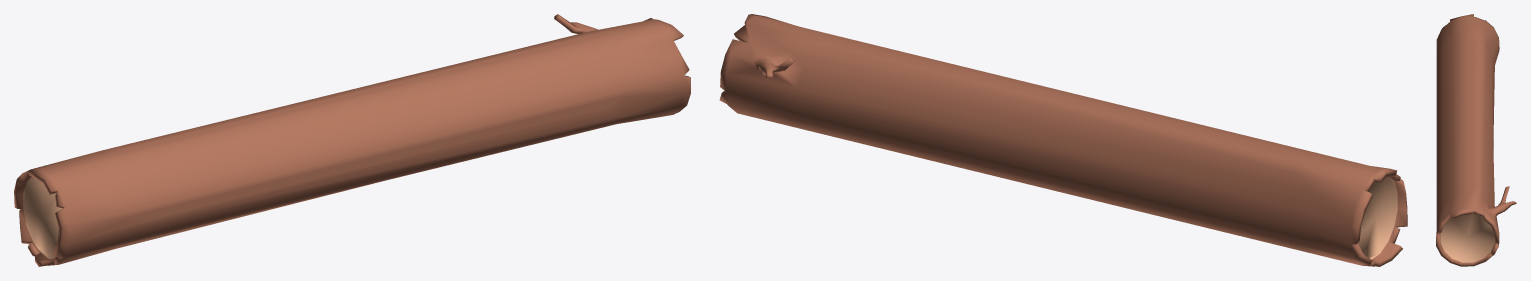
Rendered from Log.fbx.
3 renders of one model, left to right at view 1: azimuth 30°, elevation 25°; view 2: azimuth 150°, elevation 25°; view 3: azimuth 270°, elevation 25°, orthographic. The views are drawn at different scales.
Visible parts, largest first — view 1: Log02; view 2: Log02; view 3: Log02.
Boxes of the visible parts, x1=… form: Log02: x1=14, y1=14, x2=690, y2=266; Log02: x1=719, y1=14, x2=1407, y2=266; Log02: x1=1436, y1=14, x2=1516, y2=266.
Bounding box in the file's own units: 1484 × 203 × 252.
